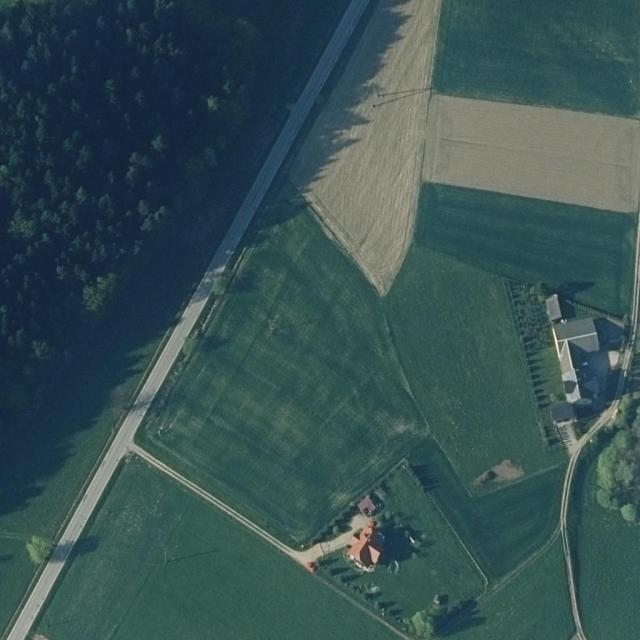agricultural_land: (117, 185, 496, 573), (369, 223, 563, 501), (277, 0, 441, 297), (400, 383, 595, 584), (437, 540, 611, 640)
building: (544, 287, 616, 408), (343, 516, 393, 575), (547, 398, 576, 426), (355, 495, 379, 519)
greenland: (59, 152, 266, 377), (596, 395, 640, 522)
unmetalled_road: (109, 442, 370, 584), (540, 334, 640, 552), (538, 392, 621, 640)
